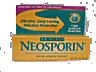grozi_19: (0, 0, 96, 72)
